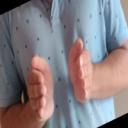hand: (24, 54, 54, 127), (67, 36, 93, 103)
